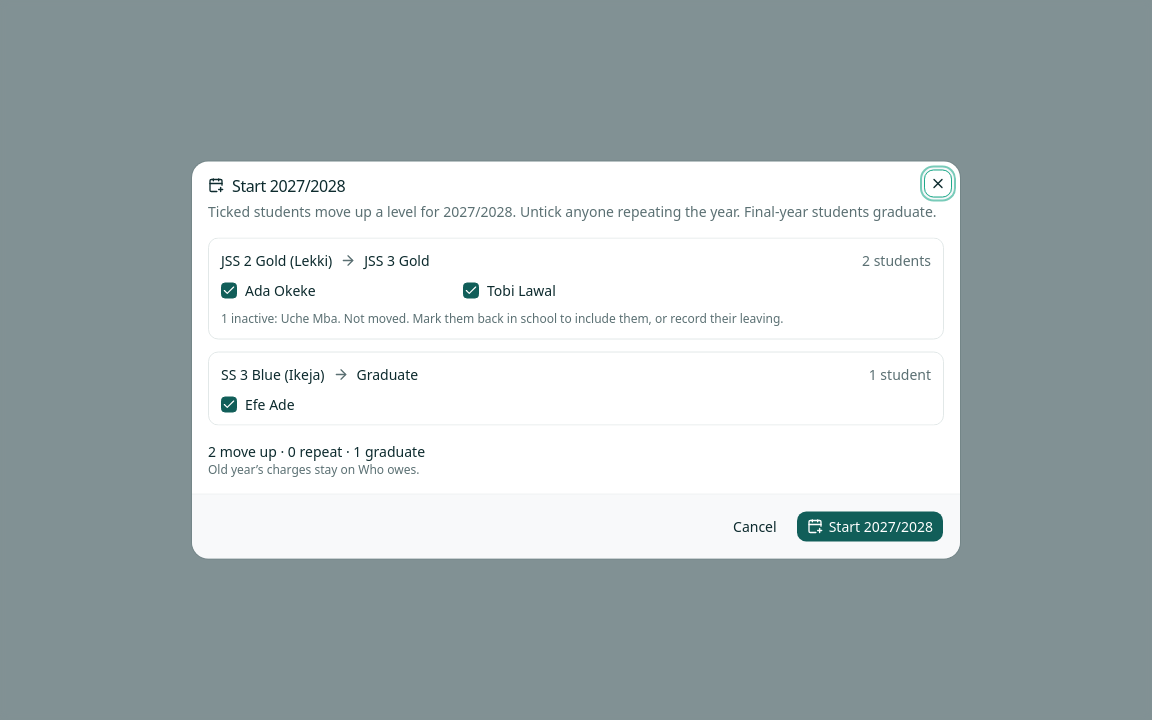
Test: StartYearDialog › marks an unticked student as repeating and updates the summary live
Click the checkbox named "Tobi Lawal" next to "Tobi". click: (471, 290)
box: [463,282,479,298]
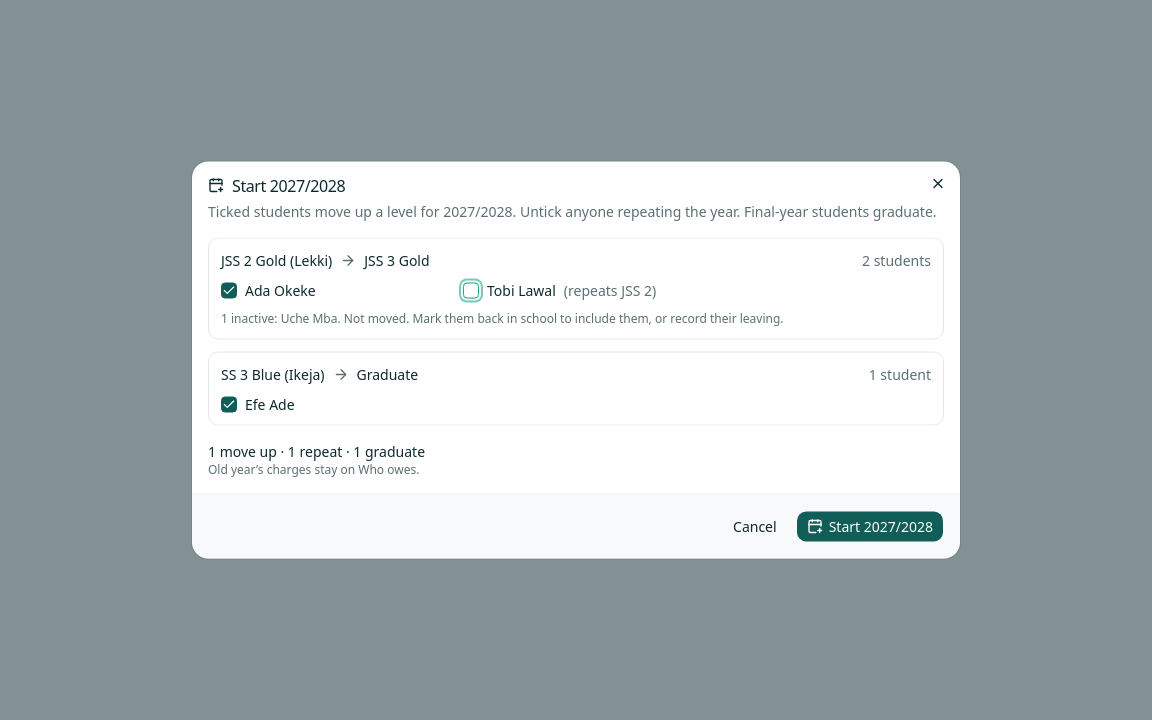
Expected: the text "(repeats JSS 2)" is shown, [564,284,656,298]
Expected: the text "1 move up · 1 repeat · 1 graduate" is shown, [208,442,425,460]
Click the checkbox named "Tobi Lawal" next to "Tobi". click: (471, 290)
box: [463,282,479,298]
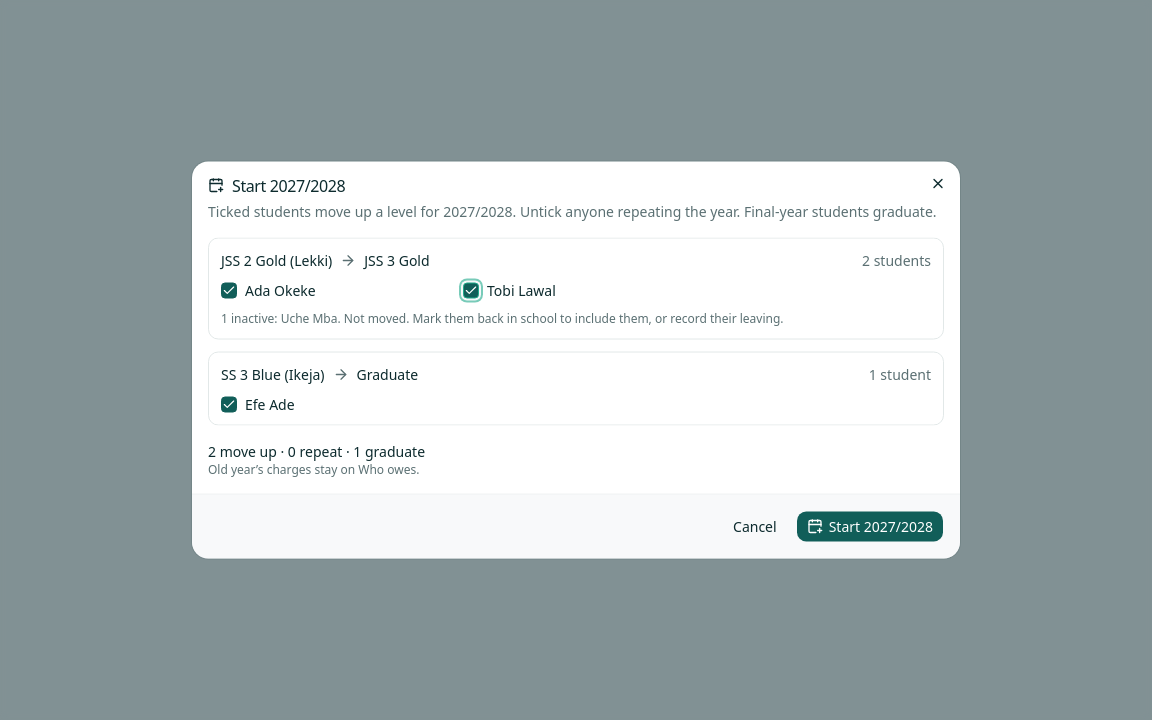
Expected: the text "2 move up · 0 repeat · 1 graduate" is shown, [208,442,425,460]
